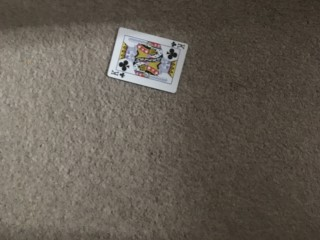KingOfClubs: (107, 27, 188, 93)
